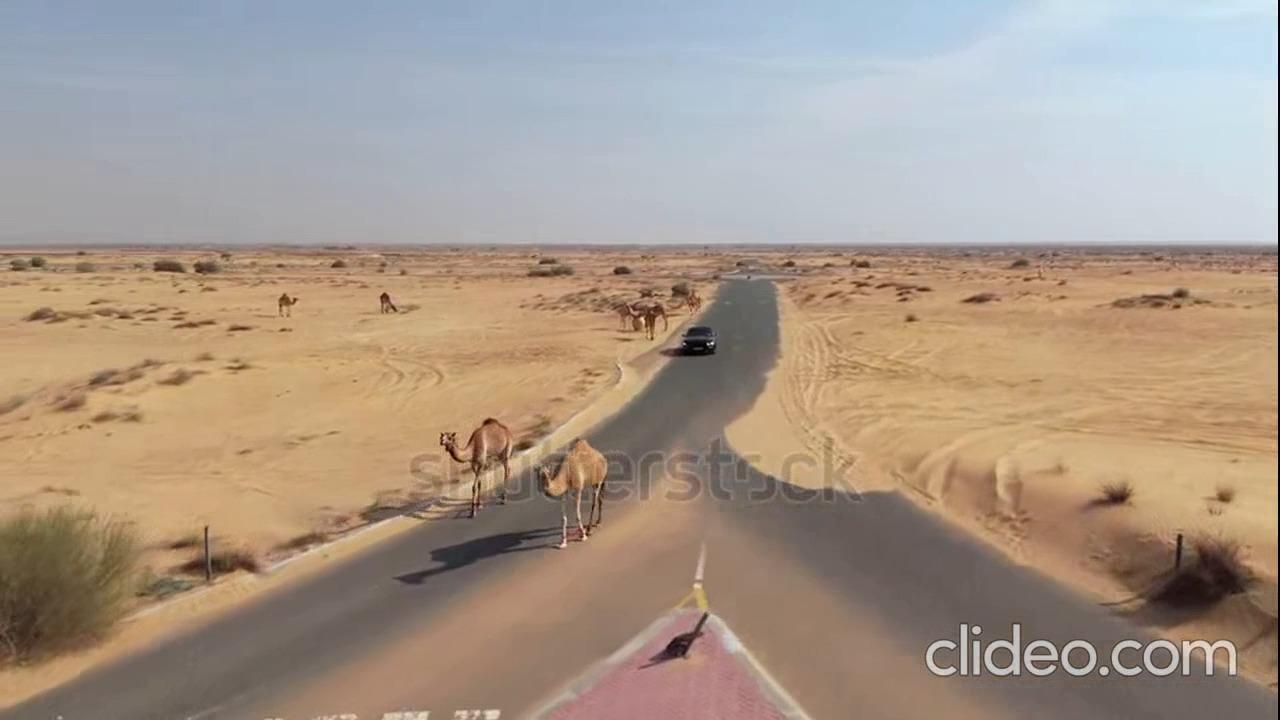camel: (509, 434, 613, 551), (433, 408, 524, 519)
